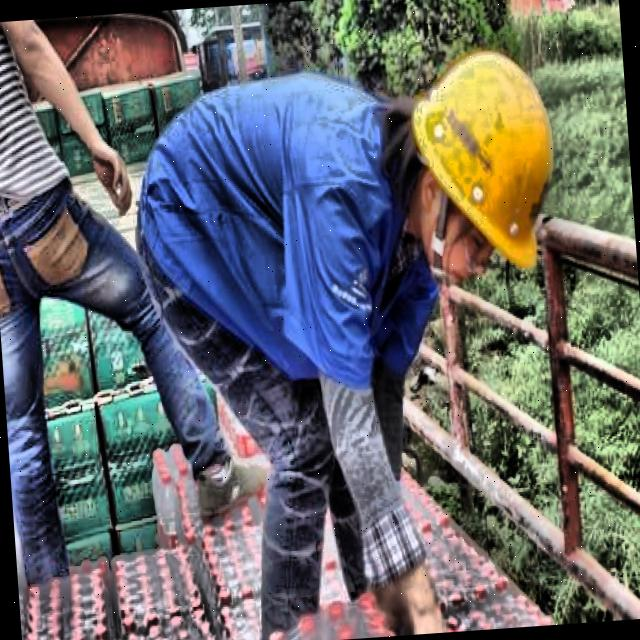helmet: (382, 13, 592, 323)
